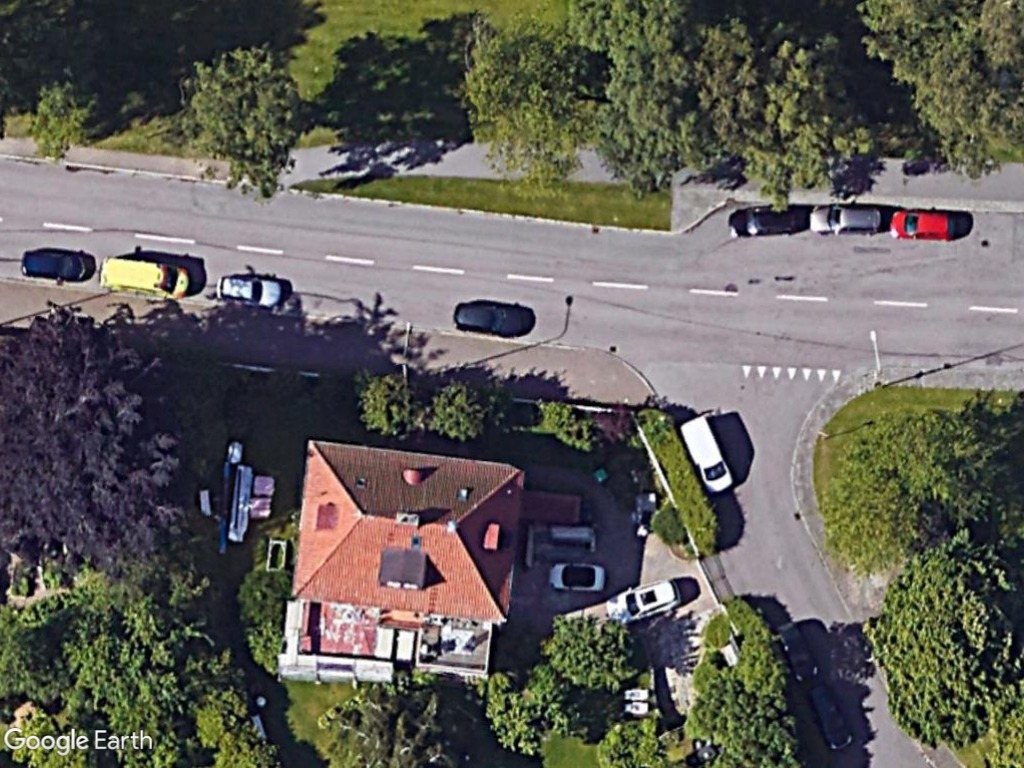car: (602, 578, 688, 626), (450, 295, 538, 341), (722, 197, 809, 243), (803, 201, 891, 239), (214, 269, 294, 310), (18, 245, 98, 285), (884, 205, 964, 244)
van: (677, 407, 736, 498), (99, 252, 194, 303)
